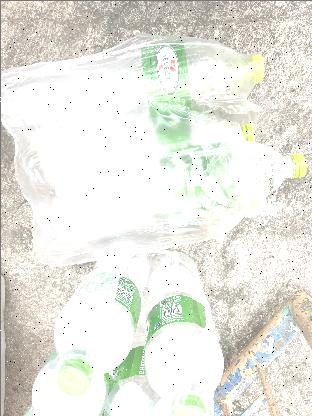Plastic Bottle: (0, 40, 268, 138), (4, 141, 306, 223), (52, 248, 144, 394), (0, 108, 256, 160), (144, 250, 222, 416), (106, 304, 172, 416), (32, 346, 106, 416)
